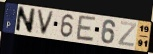6: (100, 18, 117, 45), (60, 13, 76, 39)
E: (75, 14, 97, 43)
N: (15, 5, 37, 34)
V: (36, 8, 56, 37)
Z: (117, 21, 138, 48)
